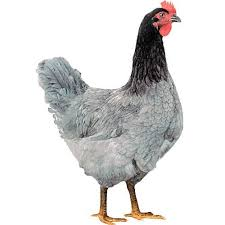chicken: (30, 1, 192, 225)
